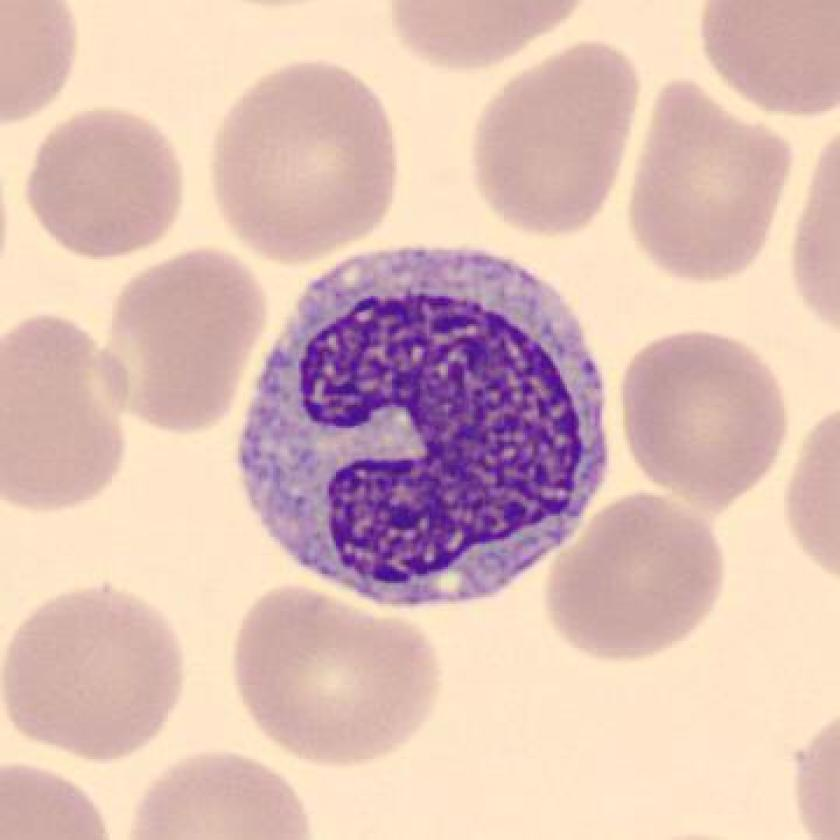monocyte: (216, 230, 638, 628)
